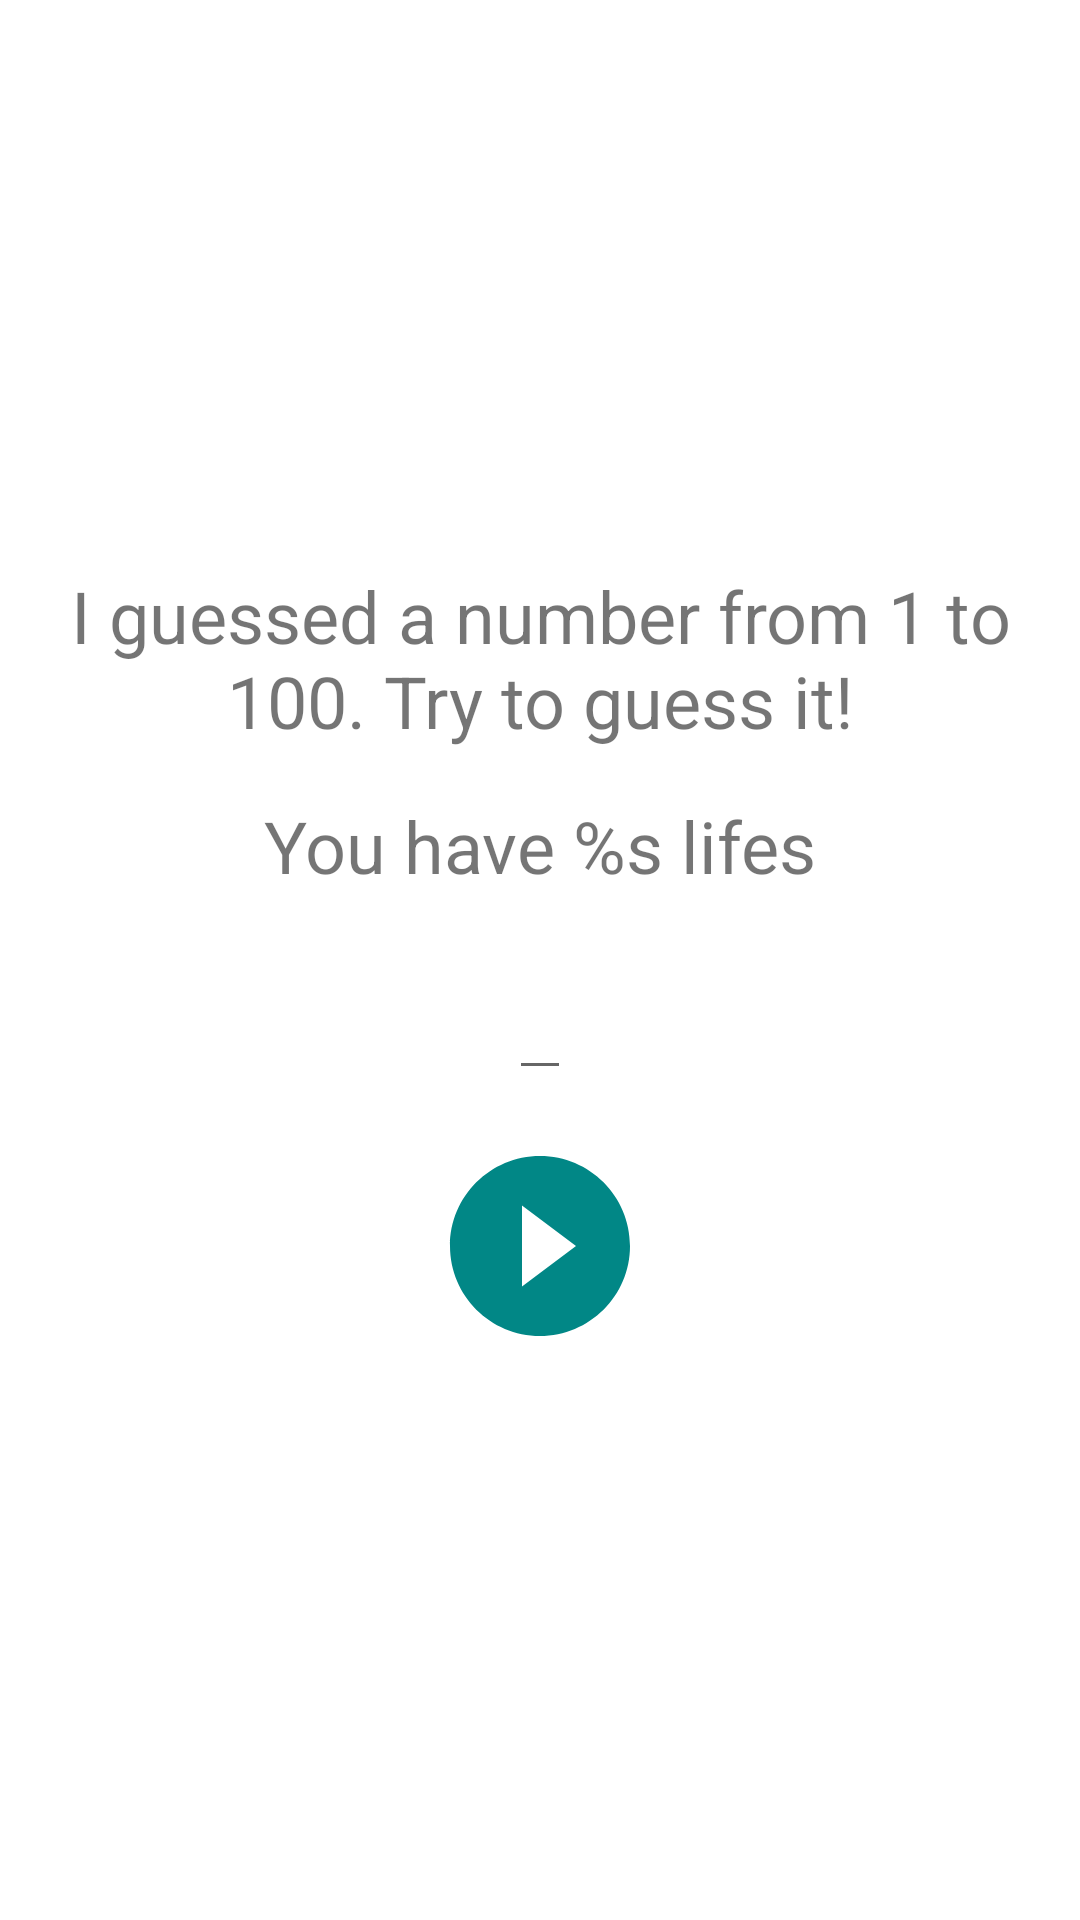

Icons on this 1080*1920 Android screen, each with its box as detection(x1, y1, x2, y2):
play: detection(449, 1156, 630, 1336)
